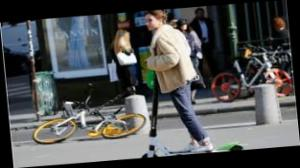nonhelmet: (125, 5, 246, 158)
